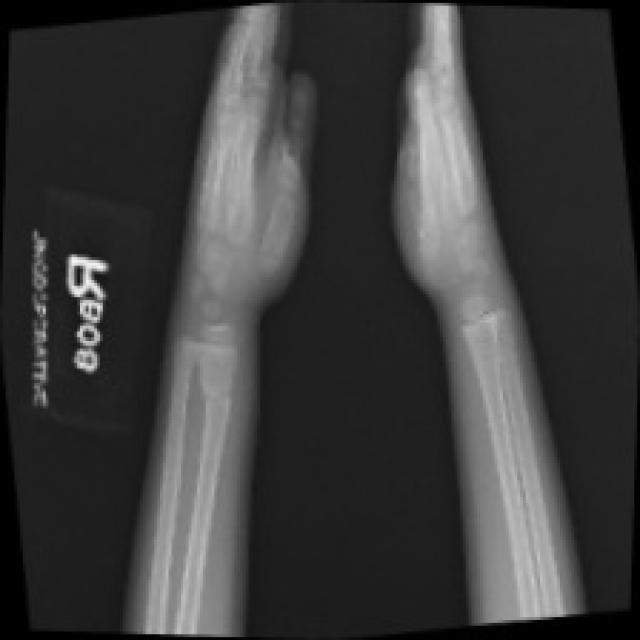fracture: (191, 358, 257, 459)
